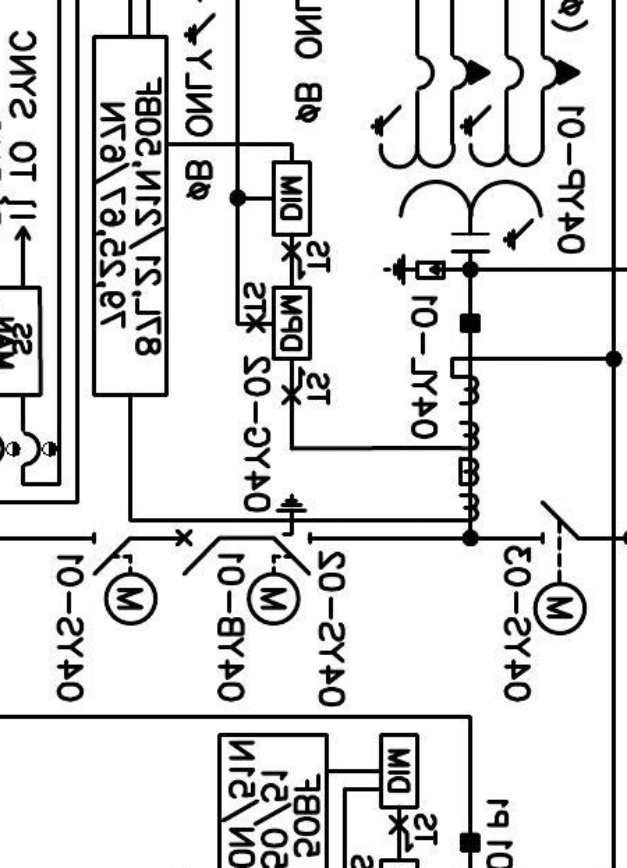115_1way_ds_w_motor: (532, 499, 589, 637), (92, 531, 159, 627)
115_3ways_ds_w_motor: (245, 492, 313, 627)
115_breaker: (175, 529, 221, 576)
115_cvt_1p: (369, 52, 582, 255)
115_la: (382, 253, 446, 286)
DIM: (379, 732, 420, 810), (271, 160, 312, 237)
DPM: (271, 285, 312, 361)
